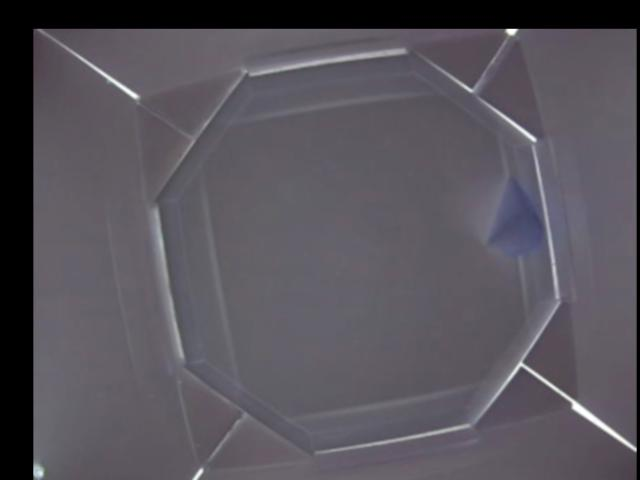Mooli: (486, 175, 547, 255)
